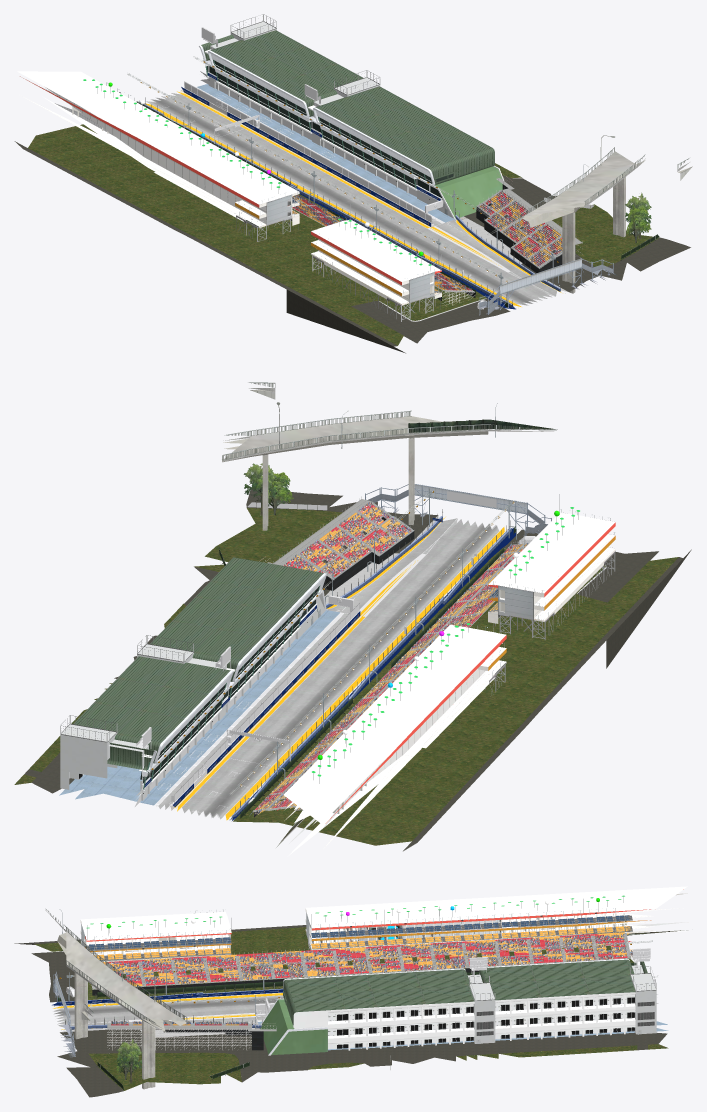
3 views of the same model, one above another, from view 1: azimuth 30°, elevation 25°; view 2: azimuth 150°, elevation 25°; view 3: azimuth 270°, elevation 25° (orthographic). The views are drawn at different scales.
Visible parts, largest first — view 1: m87_t00, m97_t00, m83_t00, m15_t00, m96_t00, m0_t00, m82_t00, m81_t00, m8_t00, m94_t00, m9_t00, m88_t00 (+11 smaller); view 2: m97_t00, m87_t00, m83_t00, m15_t00, m96_t00, m0_t00, m9_t00, m81_t00, m13_t00, m88_t00, m99_t00, m94_t00 (+12 smaller); view 3: m87_t00, m83_t00, m82_t00, m96_t00, m9_t00, m13_t00, m97_t00, m12_t00, m81_t00, m88_t00, m15_t00, m91_t00 (+15 smaller).
Part boxes in pixels (left/top/right/bottom): m87_t00: left=17, top=71, right=441, bottom=321; m97_t00: left=28, top=124, right=659, bottom=345; m83_t00: left=200, top=21, right=502, bottom=218; m15_t00: left=146, top=93, right=556, bottom=305; m96_t00: left=14, top=141, right=690, bottom=353; m0_t00: left=149, top=27, right=655, bottom=309; m82_t00: left=199, top=14, right=504, bottom=219; m81_t00: left=492, top=135, right=692, bottom=293; m8_t00: left=206, top=14, right=453, bottom=198; m94_t00: left=153, top=98, right=532, bottom=304; m9_t00: left=292, top=172, right=582, bottom=305; m88_t00: left=292, top=178, right=582, bottom=297; m97_t00: left=14, top=508, right=678, bottom=845; m87_t00: left=276, top=494, right=615, bottom=856; m83_t00: left=60, top=557, right=325, bottom=800; m15_t00: left=158, top=518, right=498, bottom=819; m96_t00: left=24, top=489, right=691, bottom=851; m0_t00: left=135, top=491, right=535, bottom=819; m9_t00: left=255, top=499, right=528, bottom=814; m81_t00: left=222, top=388, right=553, bottom=530; m13_t00: left=250, top=502, right=528, bottom=814; m88_t00: left=253, top=499, right=529, bottom=817; m99_t00: left=59, top=610, right=339, bottom=805; m94_t00: left=204, top=524, right=496, bottom=817; m87_t00: left=80, top=886, right=688, bottom=965; m83_t00: left=260, top=959, right=657, bottom=1055; m82_t00: left=260, top=958, right=656, bottom=1055; m96_t00: left=14, top=925, right=667, bottom=1097; m9_t00: left=103, top=932, right=632, bottom=1050; m13_t00: left=96, top=934, right=632, bottom=1024; m97_t00: left=35, top=921, right=668, bottom=1090; m12_t00: left=89, top=908, right=631, bottom=974; m81_t00: left=45, top=910, right=187, bottom=1089; m88_t00: left=91, top=933, right=631, bottom=1050; m15_t00: left=54, top=995, right=283, bottom=1027; m91_t00: left=84, top=910, right=654, bottom=955.
Size of the model in its own units: 181 by 53.81 by 272.
33 materials, 32 textured.
